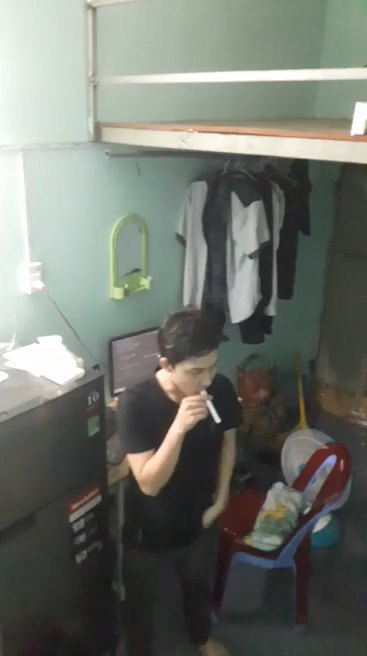cigarette: (197, 387, 223, 428)
person: (113, 293, 256, 656)
